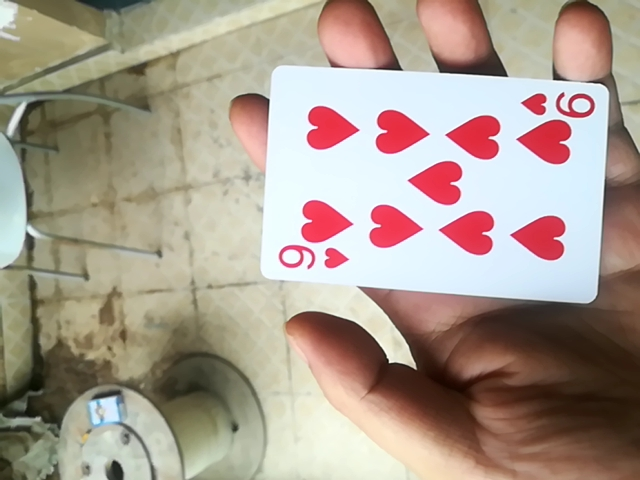hx 9: (251, 60, 615, 304)
